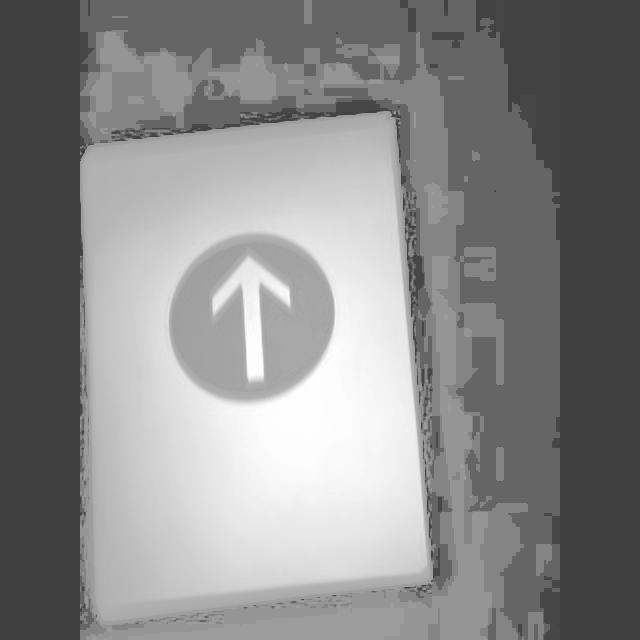GO FORWARD: (168, 236, 336, 400)
